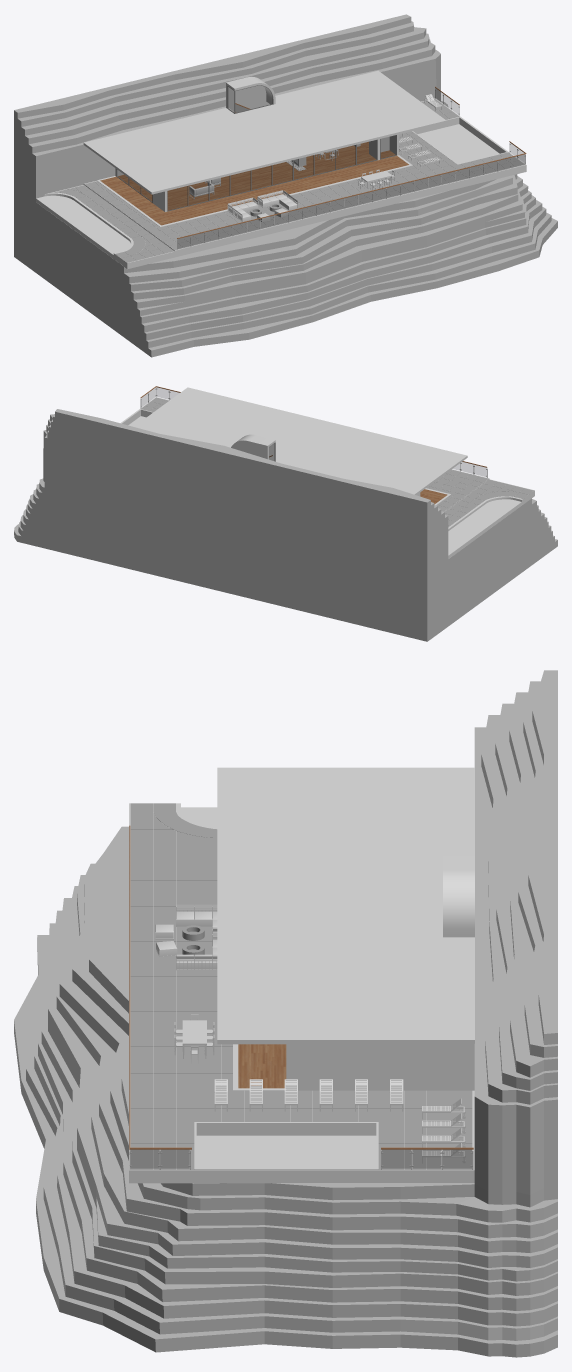
The model's file is cliff_house.glb.
3 views of the same model, one above another, from view 1: azimuth 30°, elevation 25°; view 2: azimuth 150°, elevation 25°; view 3: azimuth 270°, elevation 25° (orthographic). The views are drawn at different scales.
Visible parts, largest first — view 1: ground, ceiling, slabs, base, flat, glass, outdoor_furniture, frames, walls, railings, indoor_furniture; view 2: ground, ceiling, slabs, base, glass; view 3: ground, ceiling, slabs, base, walls, outdoor_furniture, glass, flat, railings.
Boxes of the visible parts, left/top/right/bottom form: ground: left=14, top=14, right=557, bottom=357; ceiling: left=83, top=70, right=446, bottom=194; slabs: left=54, top=98, right=524, bottom=262; base: left=36, top=98, right=526, bottom=269; flat: left=97, top=141, right=412, bottom=227; glass: left=117, top=87, right=525, bottom=248; outdoor_furniture: left=227, top=94, right=441, bottom=222; frames: left=116, top=85, right=525, bottom=249; walls: left=115, top=101, right=398, bottom=211; railings: left=177, top=86, right=526, bottom=238; indoor_furniture: left=189, top=149, right=338, bottom=199; ground: left=14, top=409, right=557, bottom=641; ceiling: left=134, top=387, right=467, bottom=495; slabs: left=141, top=397, right=533, bottom=526; base: left=120, top=397, right=534, bottom=558; glass: left=141, top=388, right=486, bottom=476; ground: left=14, top=670, right=557, bottom=1357; ceiling: left=217, top=767, right=474, bottom=1044; slabs: left=130, top=803, right=472, bottom=1169; base: left=129, top=803, right=474, bottom=1183; walls: left=286, top=1044, right=474, bottom=1090; outdoor_furniture: left=155, top=904, right=465, bottom=1163; glass: left=130, top=1150, right=471, bottom=1168; flat: left=233, top=1044, right=474, bottom=1090; railings: left=129, top=825, right=473, bottom=1149.
Size of the model in its own units: 42.09 by 13.32 by 23.63.
Materials: 7 (2 with a texture image).
